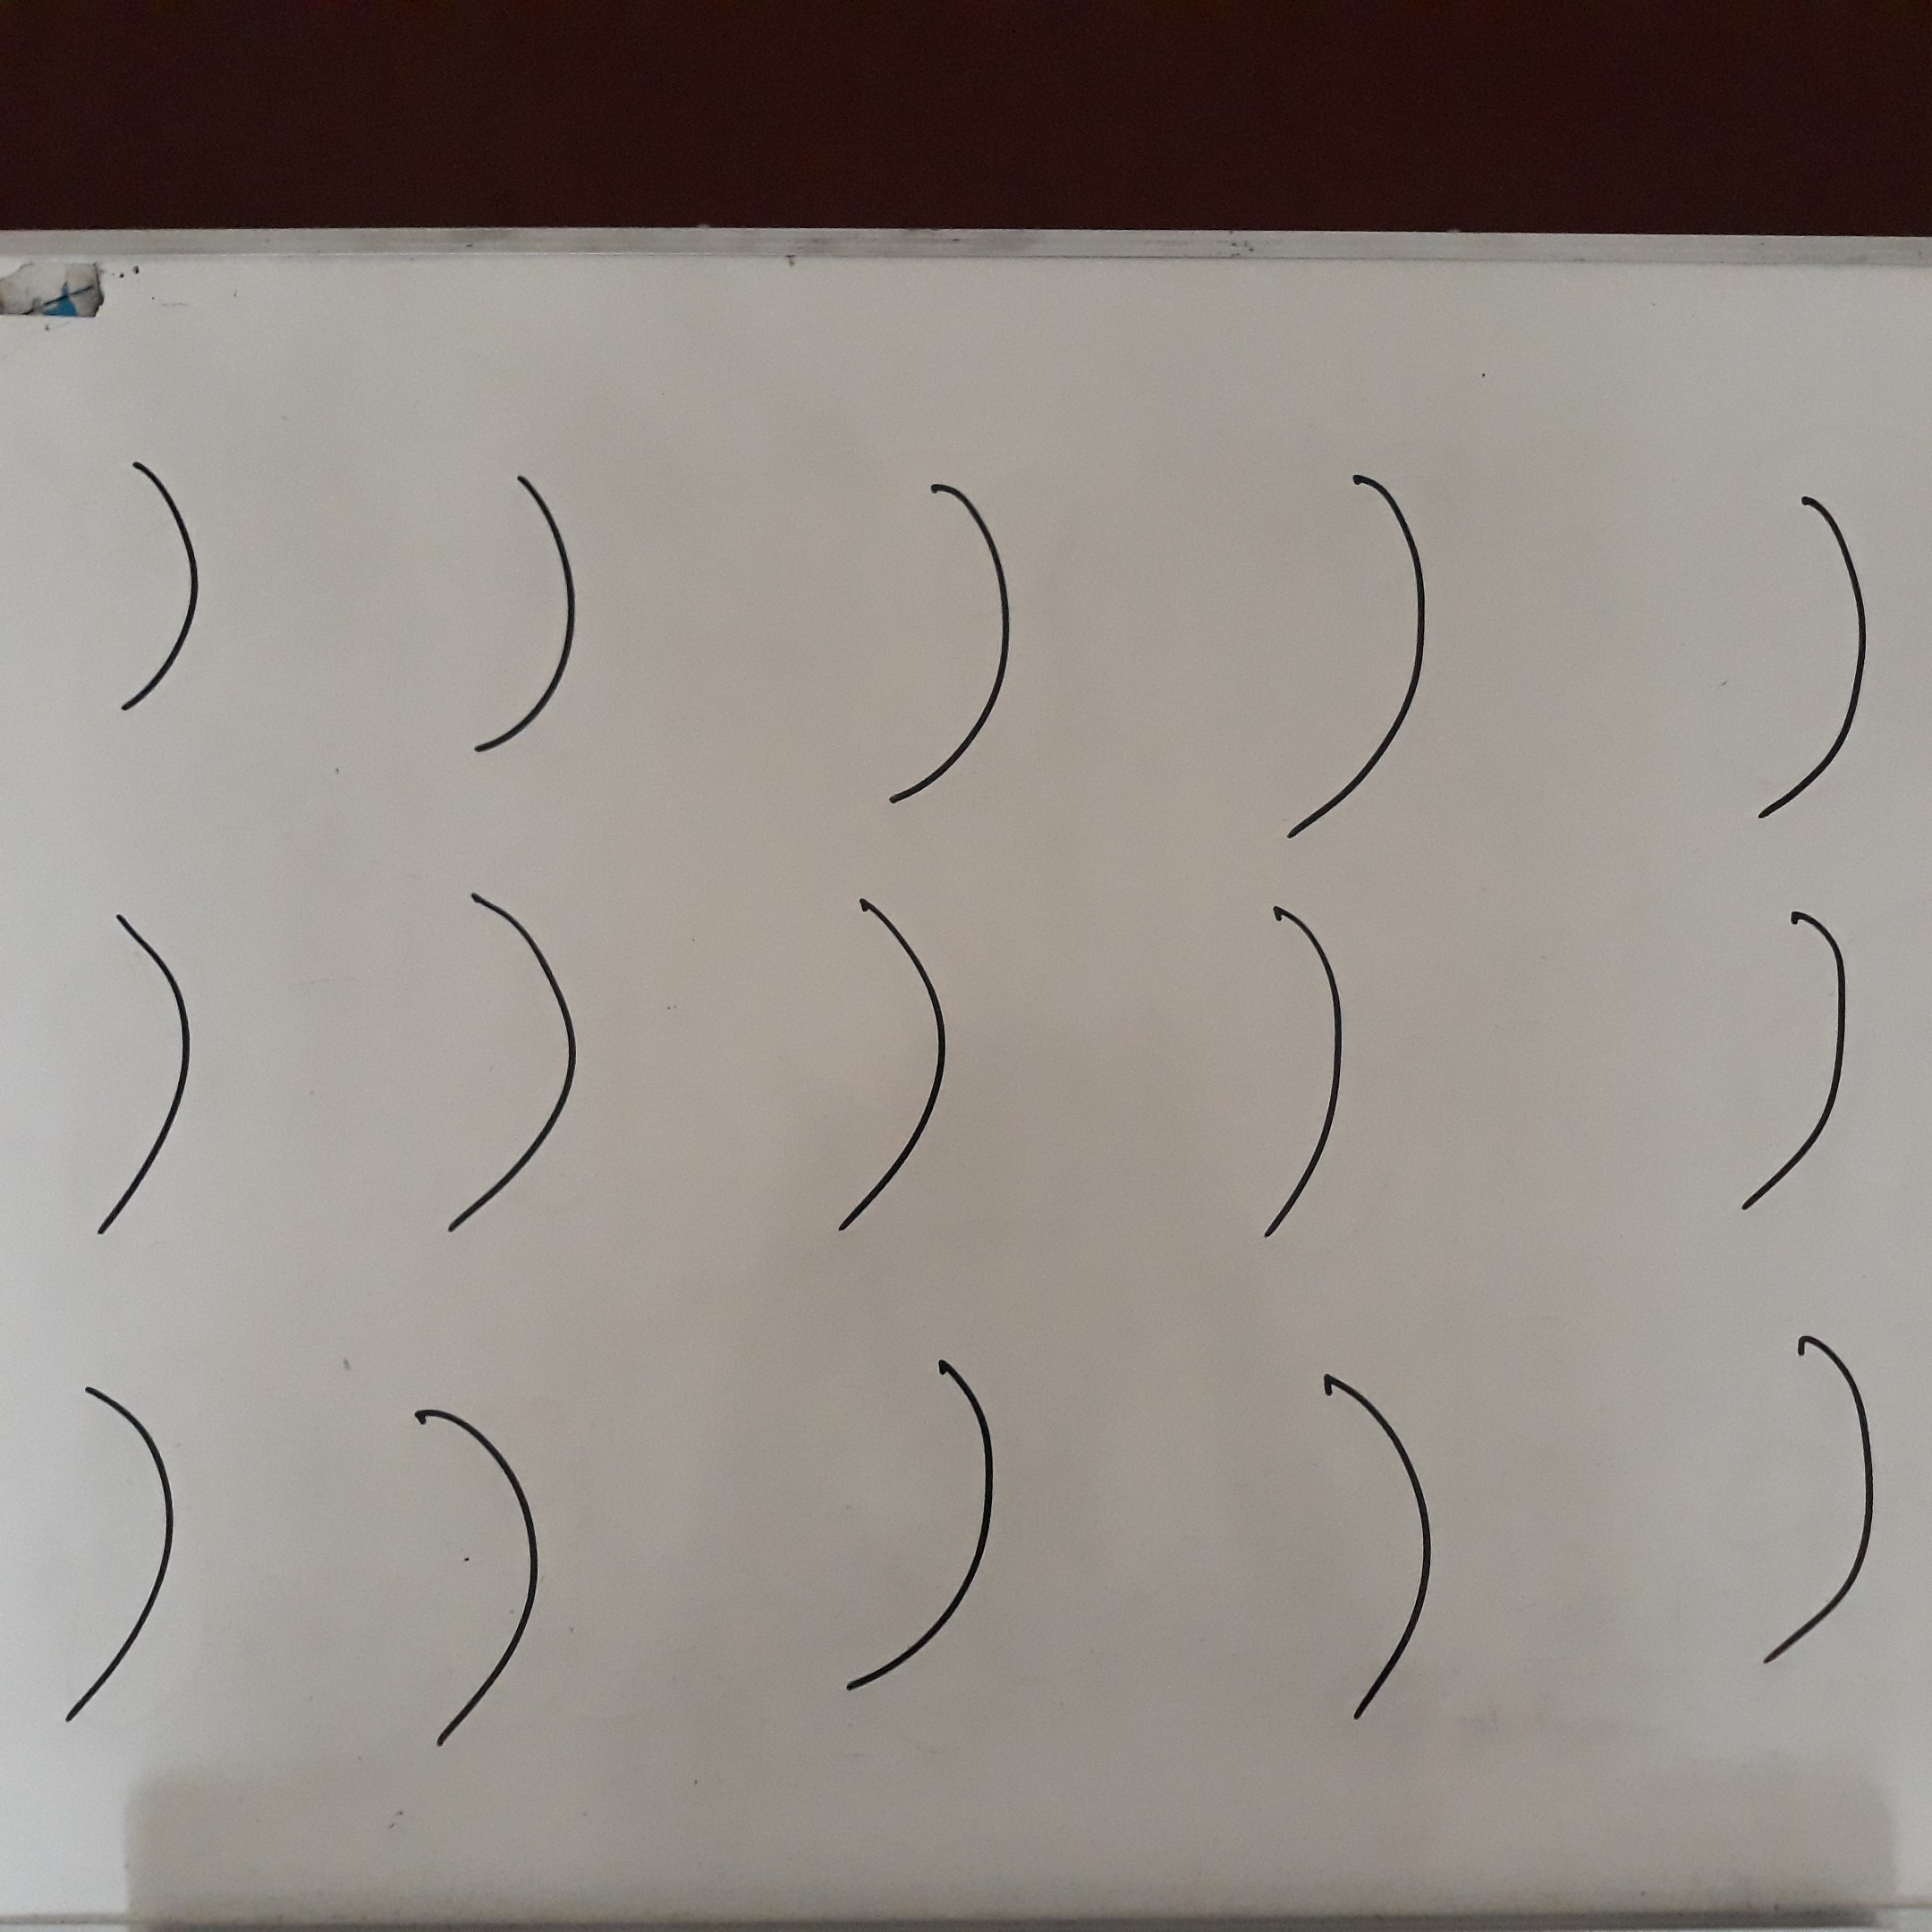closebracket: (1267, 452, 1445, 851), (1724, 443, 1901, 842), (52, 868, 229, 1267), (415, 871, 592, 1270), (807, 871, 984, 1270), (1211, 873, 1388, 1272), (1698, 860, 1875, 1259), (33, 1356, 210, 1755), (835, 1327, 1012, 1726), (1297, 1343, 1474, 1742), (1727, 1301, 1904, 1699), (389, 1364, 566, 1763), (867, 469, 1023, 815), (461, 450, 600, 775), (101, 435, 225, 735)
